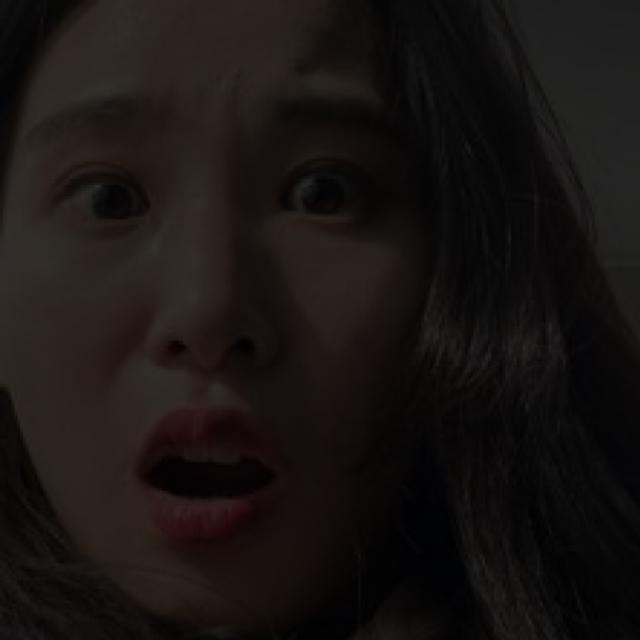Surprised: (22, 73, 475, 600)
